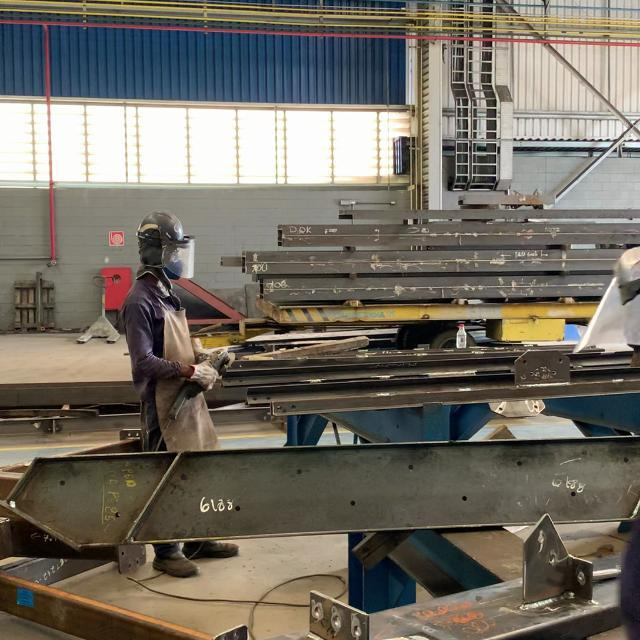eye-glass: (158, 237, 200, 276)
face-shield: (187, 360, 216, 389)
glove: (136, 212, 185, 238)
mask: (120, 206, 224, 443)
safety-shoe: (152, 539, 198, 576), (185, 542, 238, 561)
